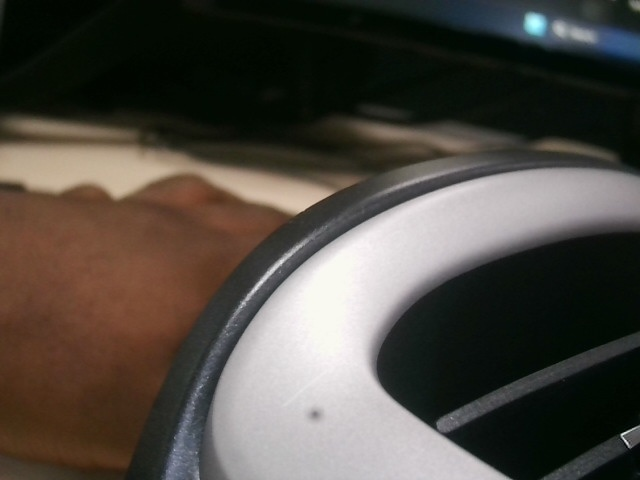NG: (280, 362, 331, 421)
